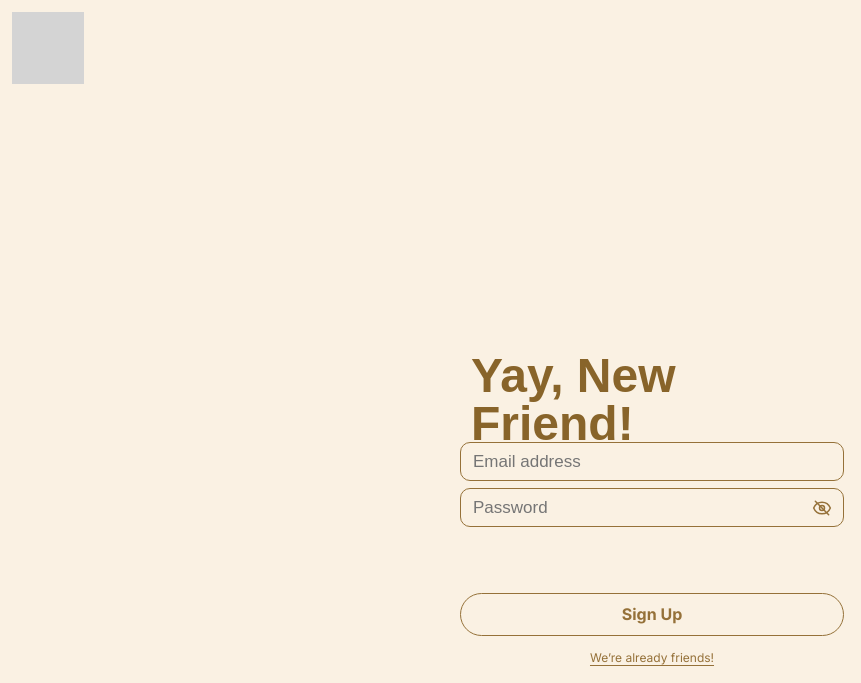
SignUpPage › validates required email and password
The width and height of the screenshot is (861, 683).
Click the button "Sign Up" at (652, 614), box [460,593,844,636]
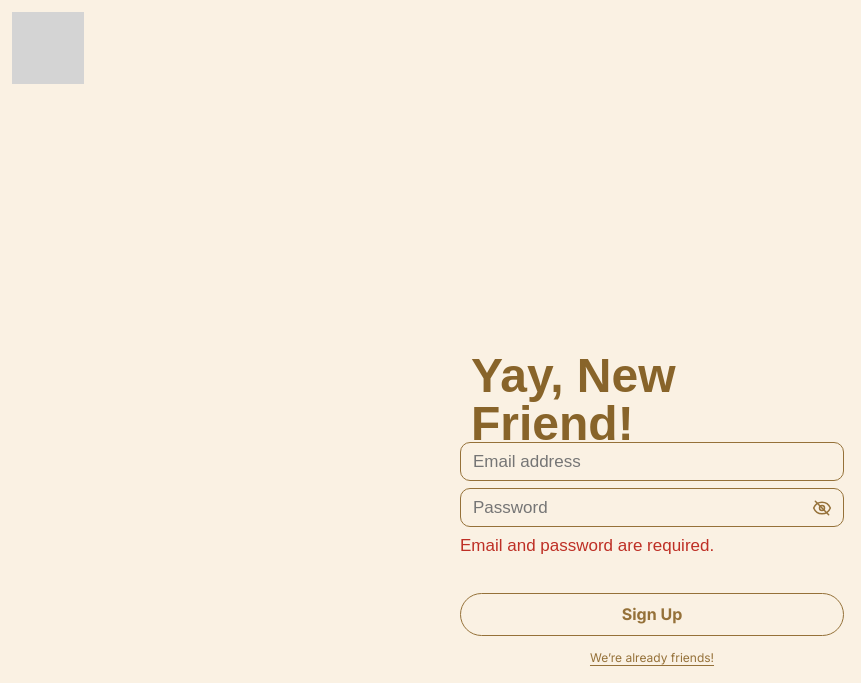
Expected: the text "Email and password are required." is shown, [460,536,714,555]
